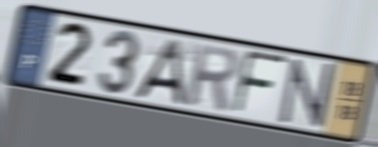2: (46, 21, 95, 91)
3: (96, 28, 141, 96)
A: (131, 37, 186, 108)
F: (230, 48, 291, 119)
N: (278, 57, 337, 130)
R: (184, 41, 240, 113)
